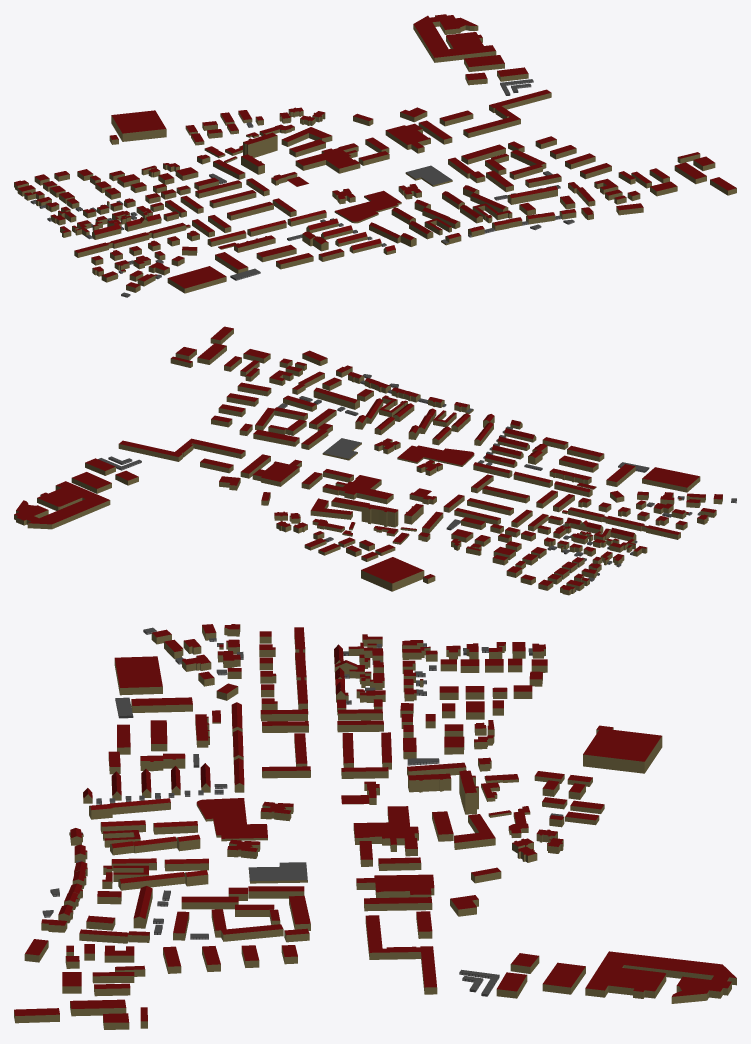
The model's file is Ingolstadt_Tile_8_9.obj.
3 renders of one model, top to bottom at view 1: azimuth 30°, elevation 25°; view 2: azimuth 150°, elevation 25°; view 3: azimuth 270°, elevation 25°, orthographic. The views are drawn at different scales.
Visible parts, largest first — view 1: Building345, Building233, Building68, Building78, Building Hotel NH Ingolstadt, Building213, Building209, Building trinkgut, Building324, Building344, Building69, Building339; view 2: Building345, Building233, Building68, Building78, Building Hotel NH Ingolstadt, Building213, Building209, Building344, Building trinkgut, Building324, Building69, Building262 (+1 smaller); view 3: Building345, Building233, Building68, Building78, Building Hotel NH Ingolstadt, Building213, Building trinkgut, Building344, Building263, Building69, Building291, Building346 (+8 smaller).
Part boxes in pixels (bbox=[...]): Building345: bbox=[413, 14, 496, 62]; Building233: bbox=[111, 110, 166, 141]; Building68: bbox=[334, 190, 401, 223]; Building78: bbox=[167, 266, 226, 293]; Building Hotel NH Ingolstadt: bbox=[385, 123, 430, 153]; Building213: bbox=[463, 106, 520, 137]; Building209: bbox=[489, 89, 551, 112]; Building trinkgut: bbox=[405, 165, 452, 186]; Building324: bbox=[507, 186, 557, 204]; Building344: bbox=[464, 55, 504, 71]; Building69: bbox=[281, 127, 332, 146]; Building339: bbox=[461, 144, 505, 164]; Building345: bbox=[14, 481, 110, 529]; Building233: bbox=[361, 557, 424, 591]; Building68: bbox=[397, 445, 474, 466]; Building78: bbox=[642, 467, 700, 492]; Building Hotel NH Ingolstadt: bbox=[252, 459, 301, 486]; Building213: bbox=[175, 438, 245, 458]; Building209: bbox=[118, 440, 182, 461]; Building344: bbox=[71, 472, 111, 493]; Building trinkgut: bbox=[322, 438, 361, 460]; Building324: bbox=[313, 387, 359, 409]; Building69: bbox=[310, 498, 352, 519]; Building262: bbox=[347, 485, 393, 504]; Building345: bbox=[585, 951, 736, 1003]; Building233: bbox=[583, 728, 662, 773]; Building68: bbox=[196, 798, 267, 841]; Building78: bbox=[114, 656, 162, 695]; Building Hotel NH Ingolstadt: bbox=[356, 874, 434, 897]; Building213: bbox=[365, 915, 420, 959]; Building trinkgut: bbox=[248, 862, 307, 883]; Building344: bbox=[542, 962, 585, 994]; Building263: bbox=[364, 897, 432, 911]; Building69: bbox=[454, 814, 495, 849]; Building291: bbox=[131, 697, 192, 712]; Building346: bbox=[70, 999, 126, 1016].
Size of the model in its own units: 901 by 22.5 by 688.
